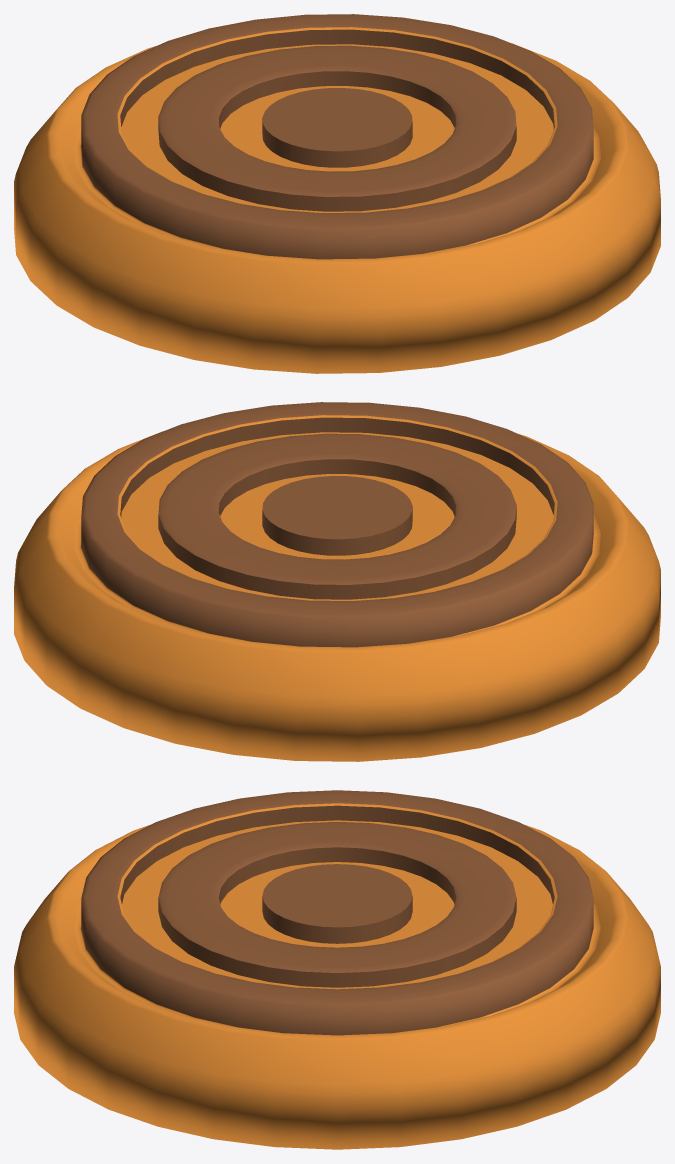
File: Turumpo_Hitbox_Player.fbx
The picture shows the model from 3 angles, top to bottom: view 1: azimuth 30°, elevation 25°; view 2: azimuth 150°, elevation 25°; view 3: azimuth 270°, elevation 25°; orthographic projection.
Parts seen in each view (by area): view 1: Cylinder; view 2: Cylinder; view 3: Cylinder.
Part boxes in pixels (x1,y1,x2,y2): Cylinder: [14, 14, 660, 373]; Cylinder: [14, 402, 660, 761]; Cylinder: [14, 790, 660, 1149].
Size of the model in its own units: 200 by 40 by 200.
